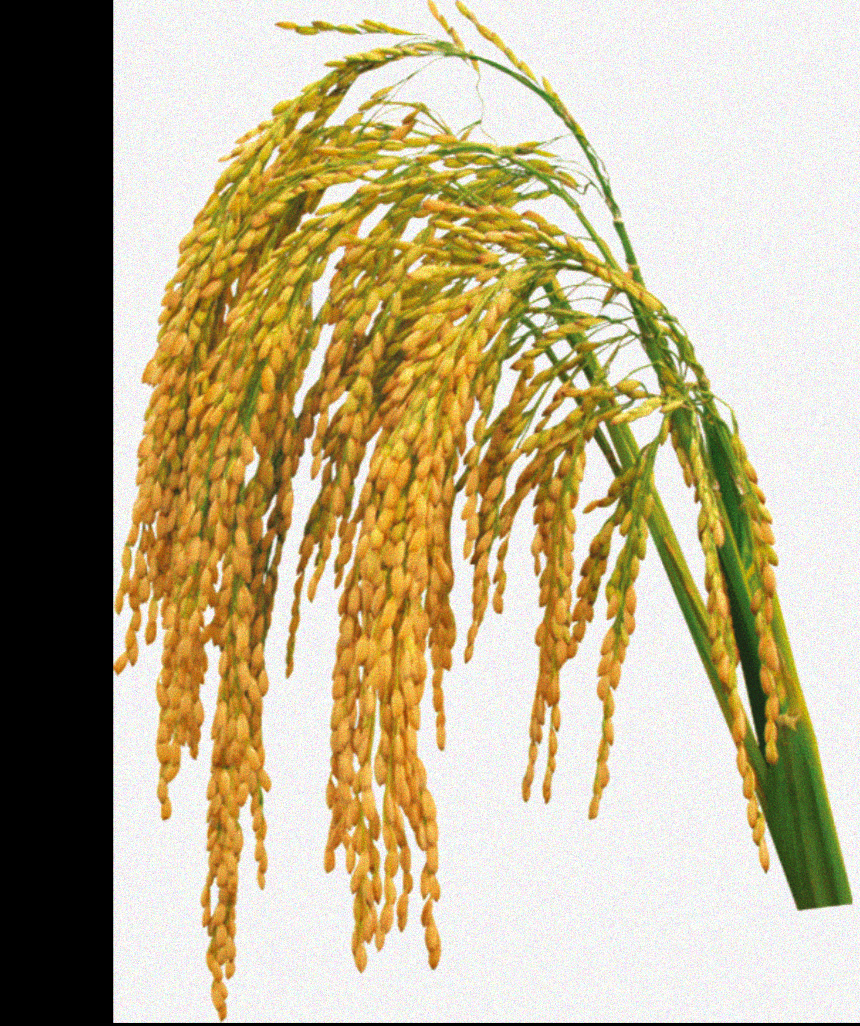rice: (119, 76, 608, 1011)
